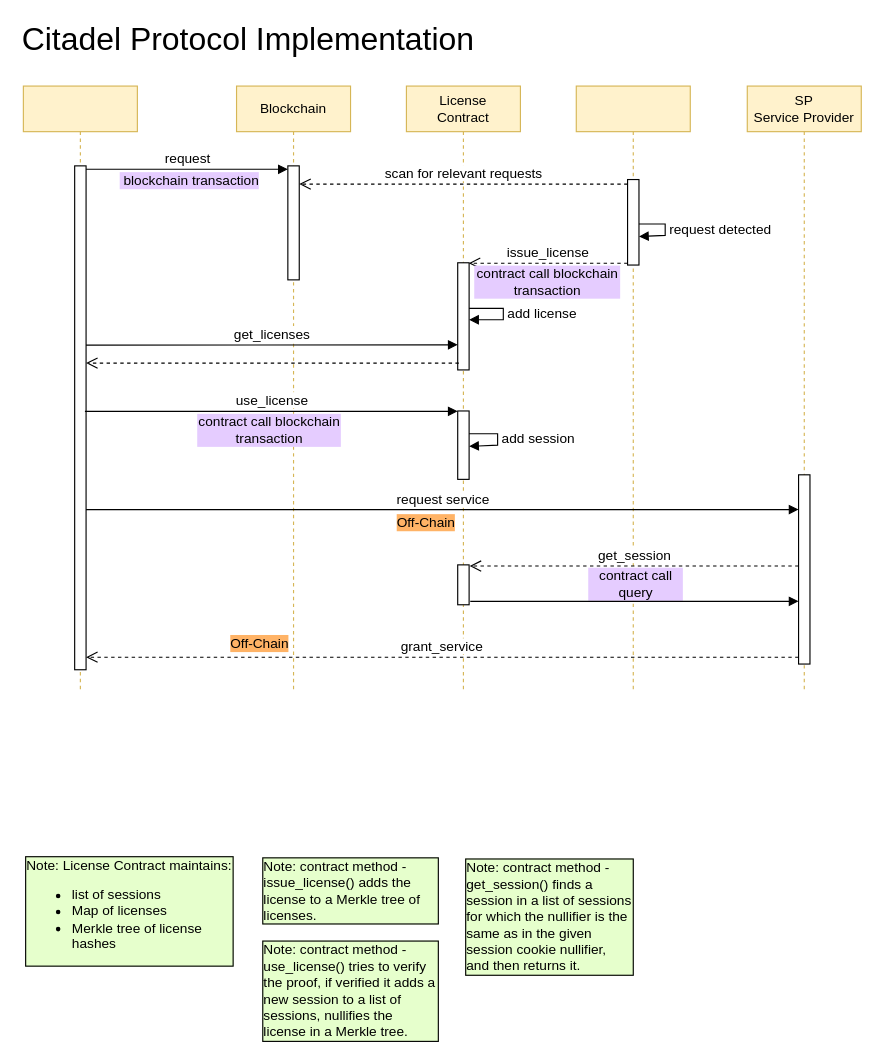
The diagram is 881 pixels wide and 1060 high, and some of its shapes have lost their labels. Here are the shapes that lost their labels. From the top down, the box of each, then its label:
(22, 85, 137, 690): User
(575, 85, 690, 690): LP License Provider
